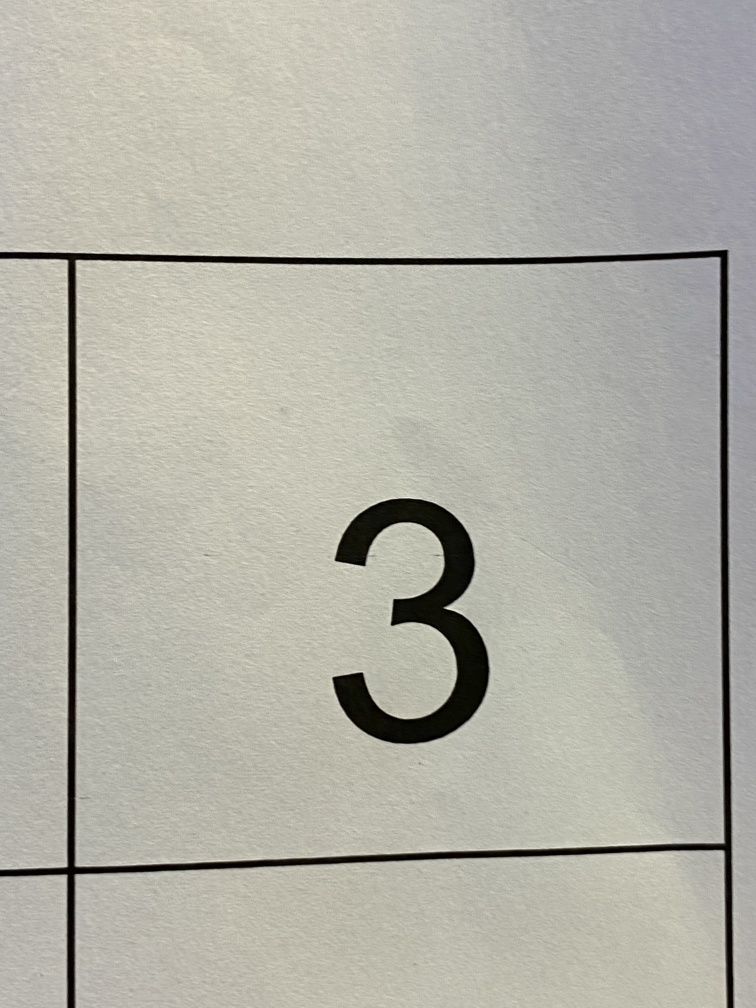three: (268, 426, 552, 819)
